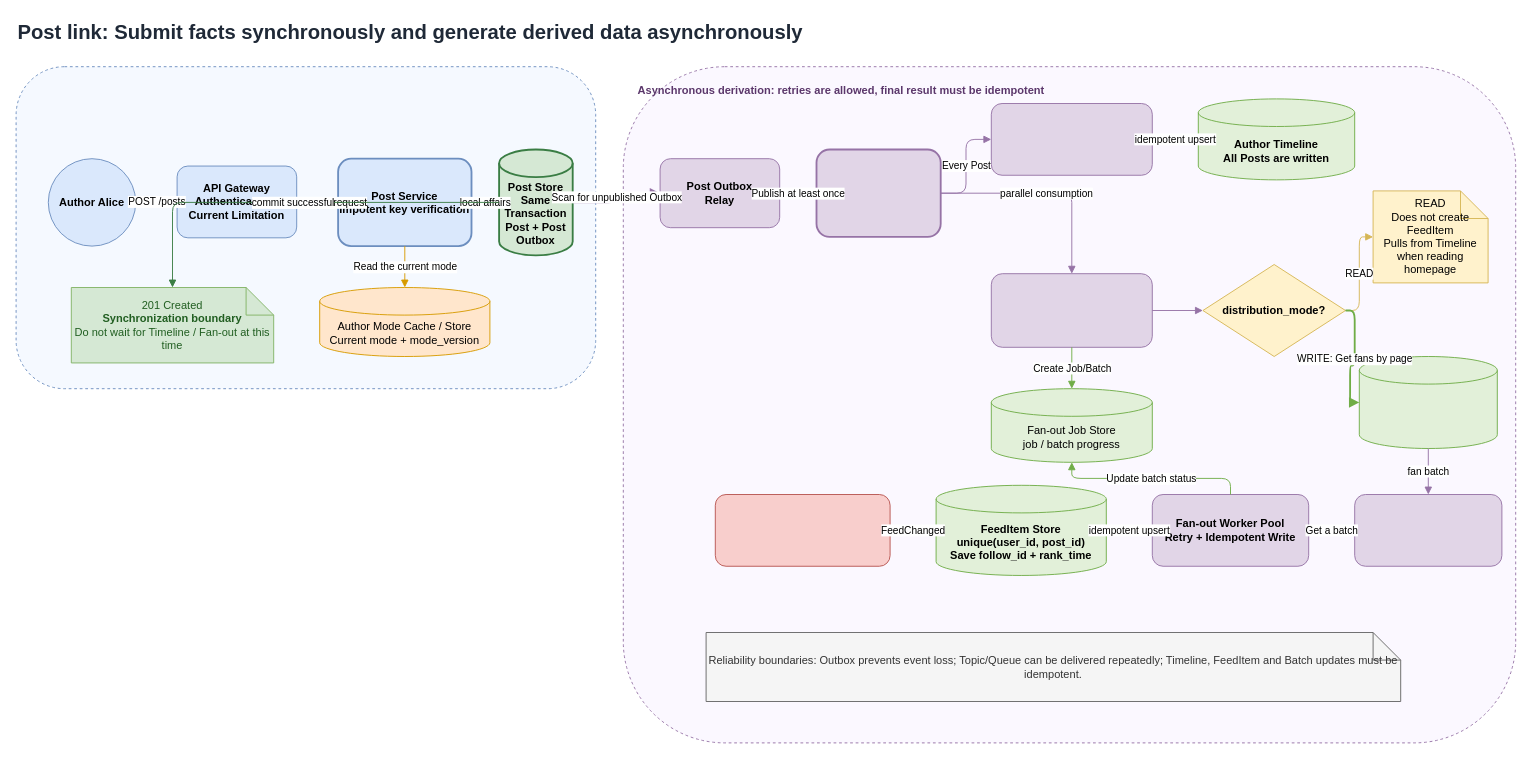
This 1532x759 diagram has some shape labels left out. Each missing label, with the box of its shape:
Cache Invalidation Worker feed_version + FeedChanged: (714, 494, 890, 566)
Fan-out Coordinator Read Post solidification mode: (990, 273, 1152, 347)
FanoutBatch Queue Split batches by target shards: (1354, 494, 1502, 566)
Followers Index Page by followee_id Get user_id + follow_id: (1358, 356, 1497, 448)
PostEvents Topic PostCreated: (815, 148, 941, 237)
Synchronous request: Post and Outbox can be returned after submission: (15, 66, 596, 389)
Timeline Worker unique(author_id, post_id): (990, 103, 1152, 175)
